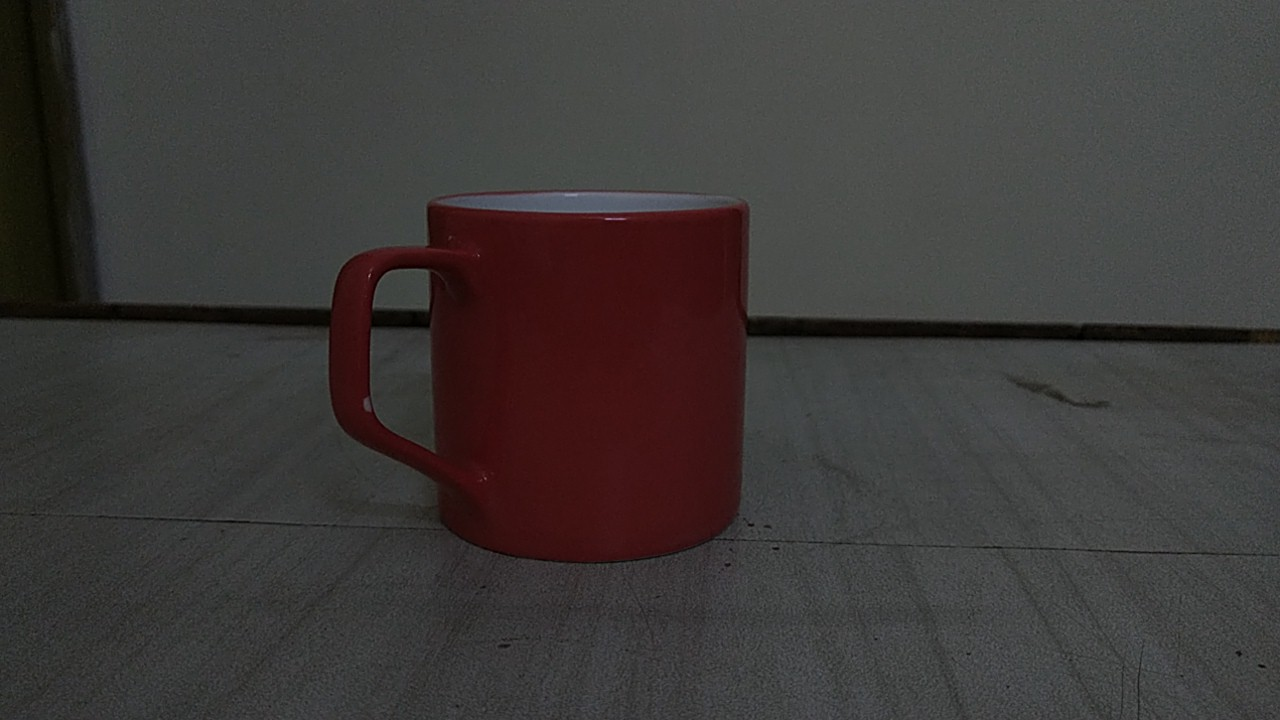cup: (315, 158, 784, 581)
